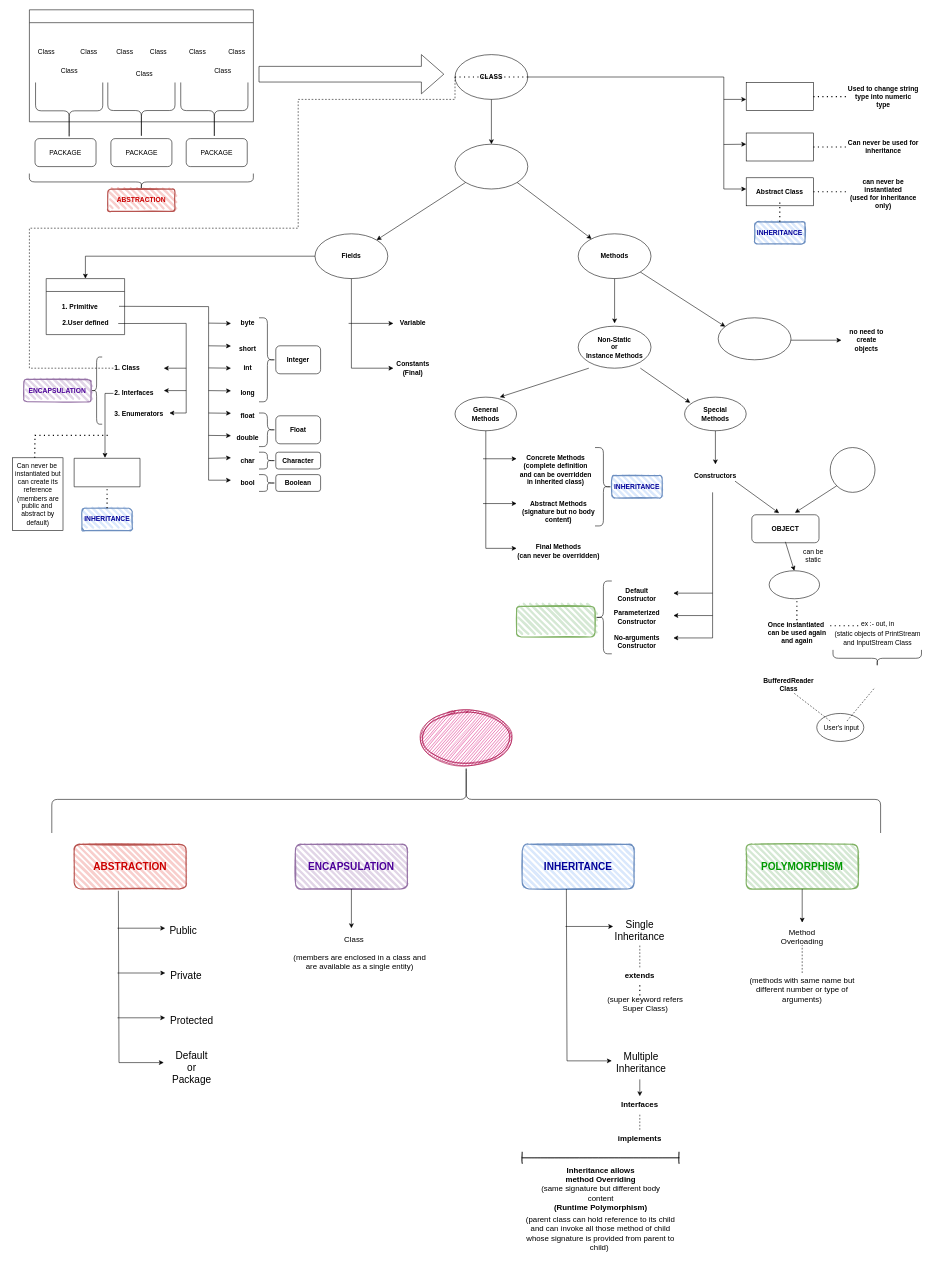
Some shapes in this 935 by 1263 pixel diagram are drawn without their labels. Each missing label, with the box of its shape:
DATA TYPES: (46, 278, 125, 335)
Directly or Indirectly Inherited: (258, 54, 444, 94)
Final Class: (746, 132, 813, 161)
Members: (454, 144, 528, 189)
new (keyword): (830, 447, 875, 492)
OBJECT CLASS: (29, 9, 253, 122)
OOPS: (421, 709, 511, 766)
POLYMORPHISM (method overloading): (516, 605, 595, 637)
Scanner Class: (832, 649, 921, 667)
Static Objects: (769, 570, 820, 599)
Static or Class methods: (718, 317, 791, 360)
Used for Multiple Inheritance: (74, 458, 140, 487)
Wrapper Classes (parse): (746, 82, 813, 111)
